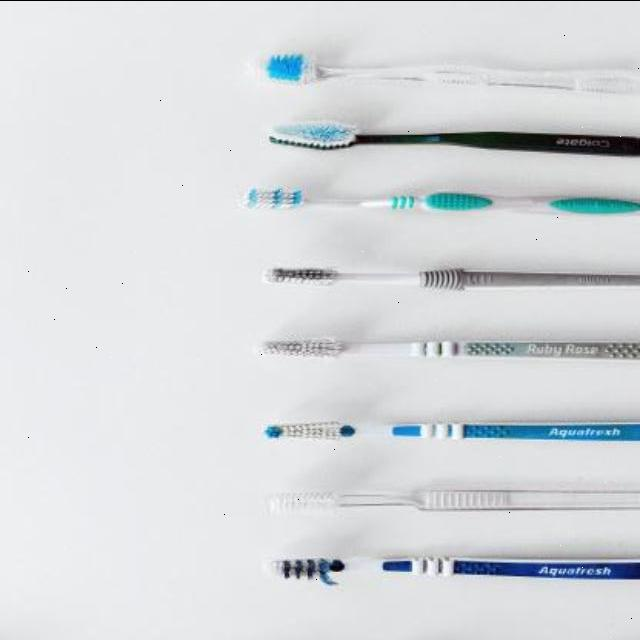toothbrush: (260, 116, 640, 160), (246, 476, 640, 518), (232, 52, 638, 92), (246, 331, 640, 367), (252, 410, 638, 446), (264, 551, 640, 587), (230, 186, 640, 218), (248, 263, 640, 293)
